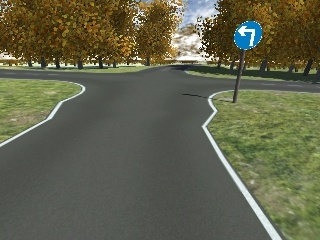TLeft: (232, 19, 264, 51)
